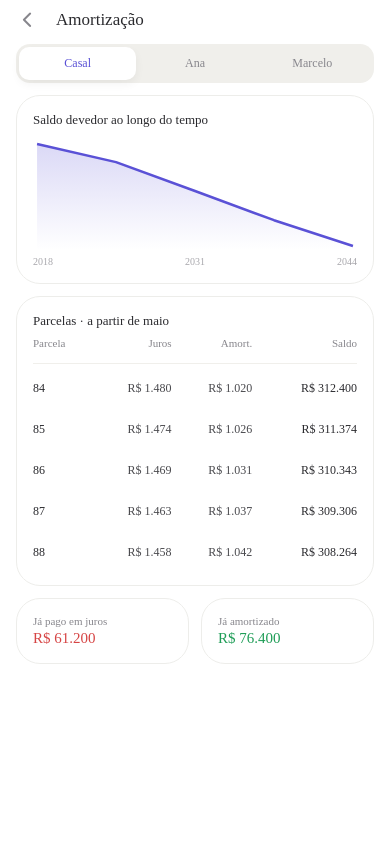
it: Financiamento · amortização › trocar para Marcelo aplica a fatia dele
Click the text "Marcelo" at (312, 64), box x1=292 y1=56 x2=332 y2=71
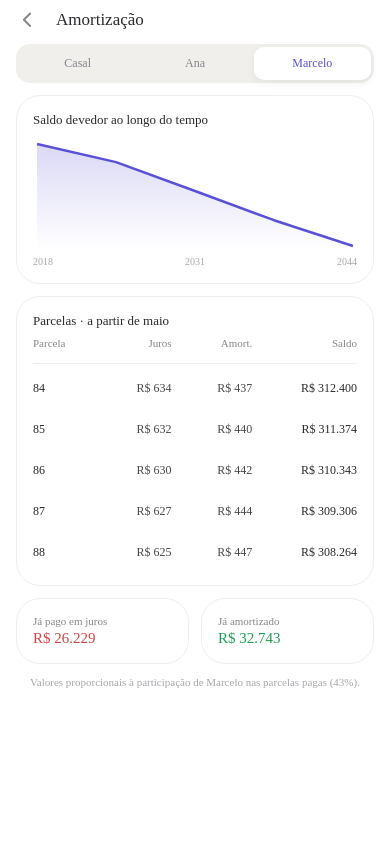
Expected: the text "Valores proporcionais à participação de Marcelo" is shown, x1=16 y1=676 x2=374 y2=688
